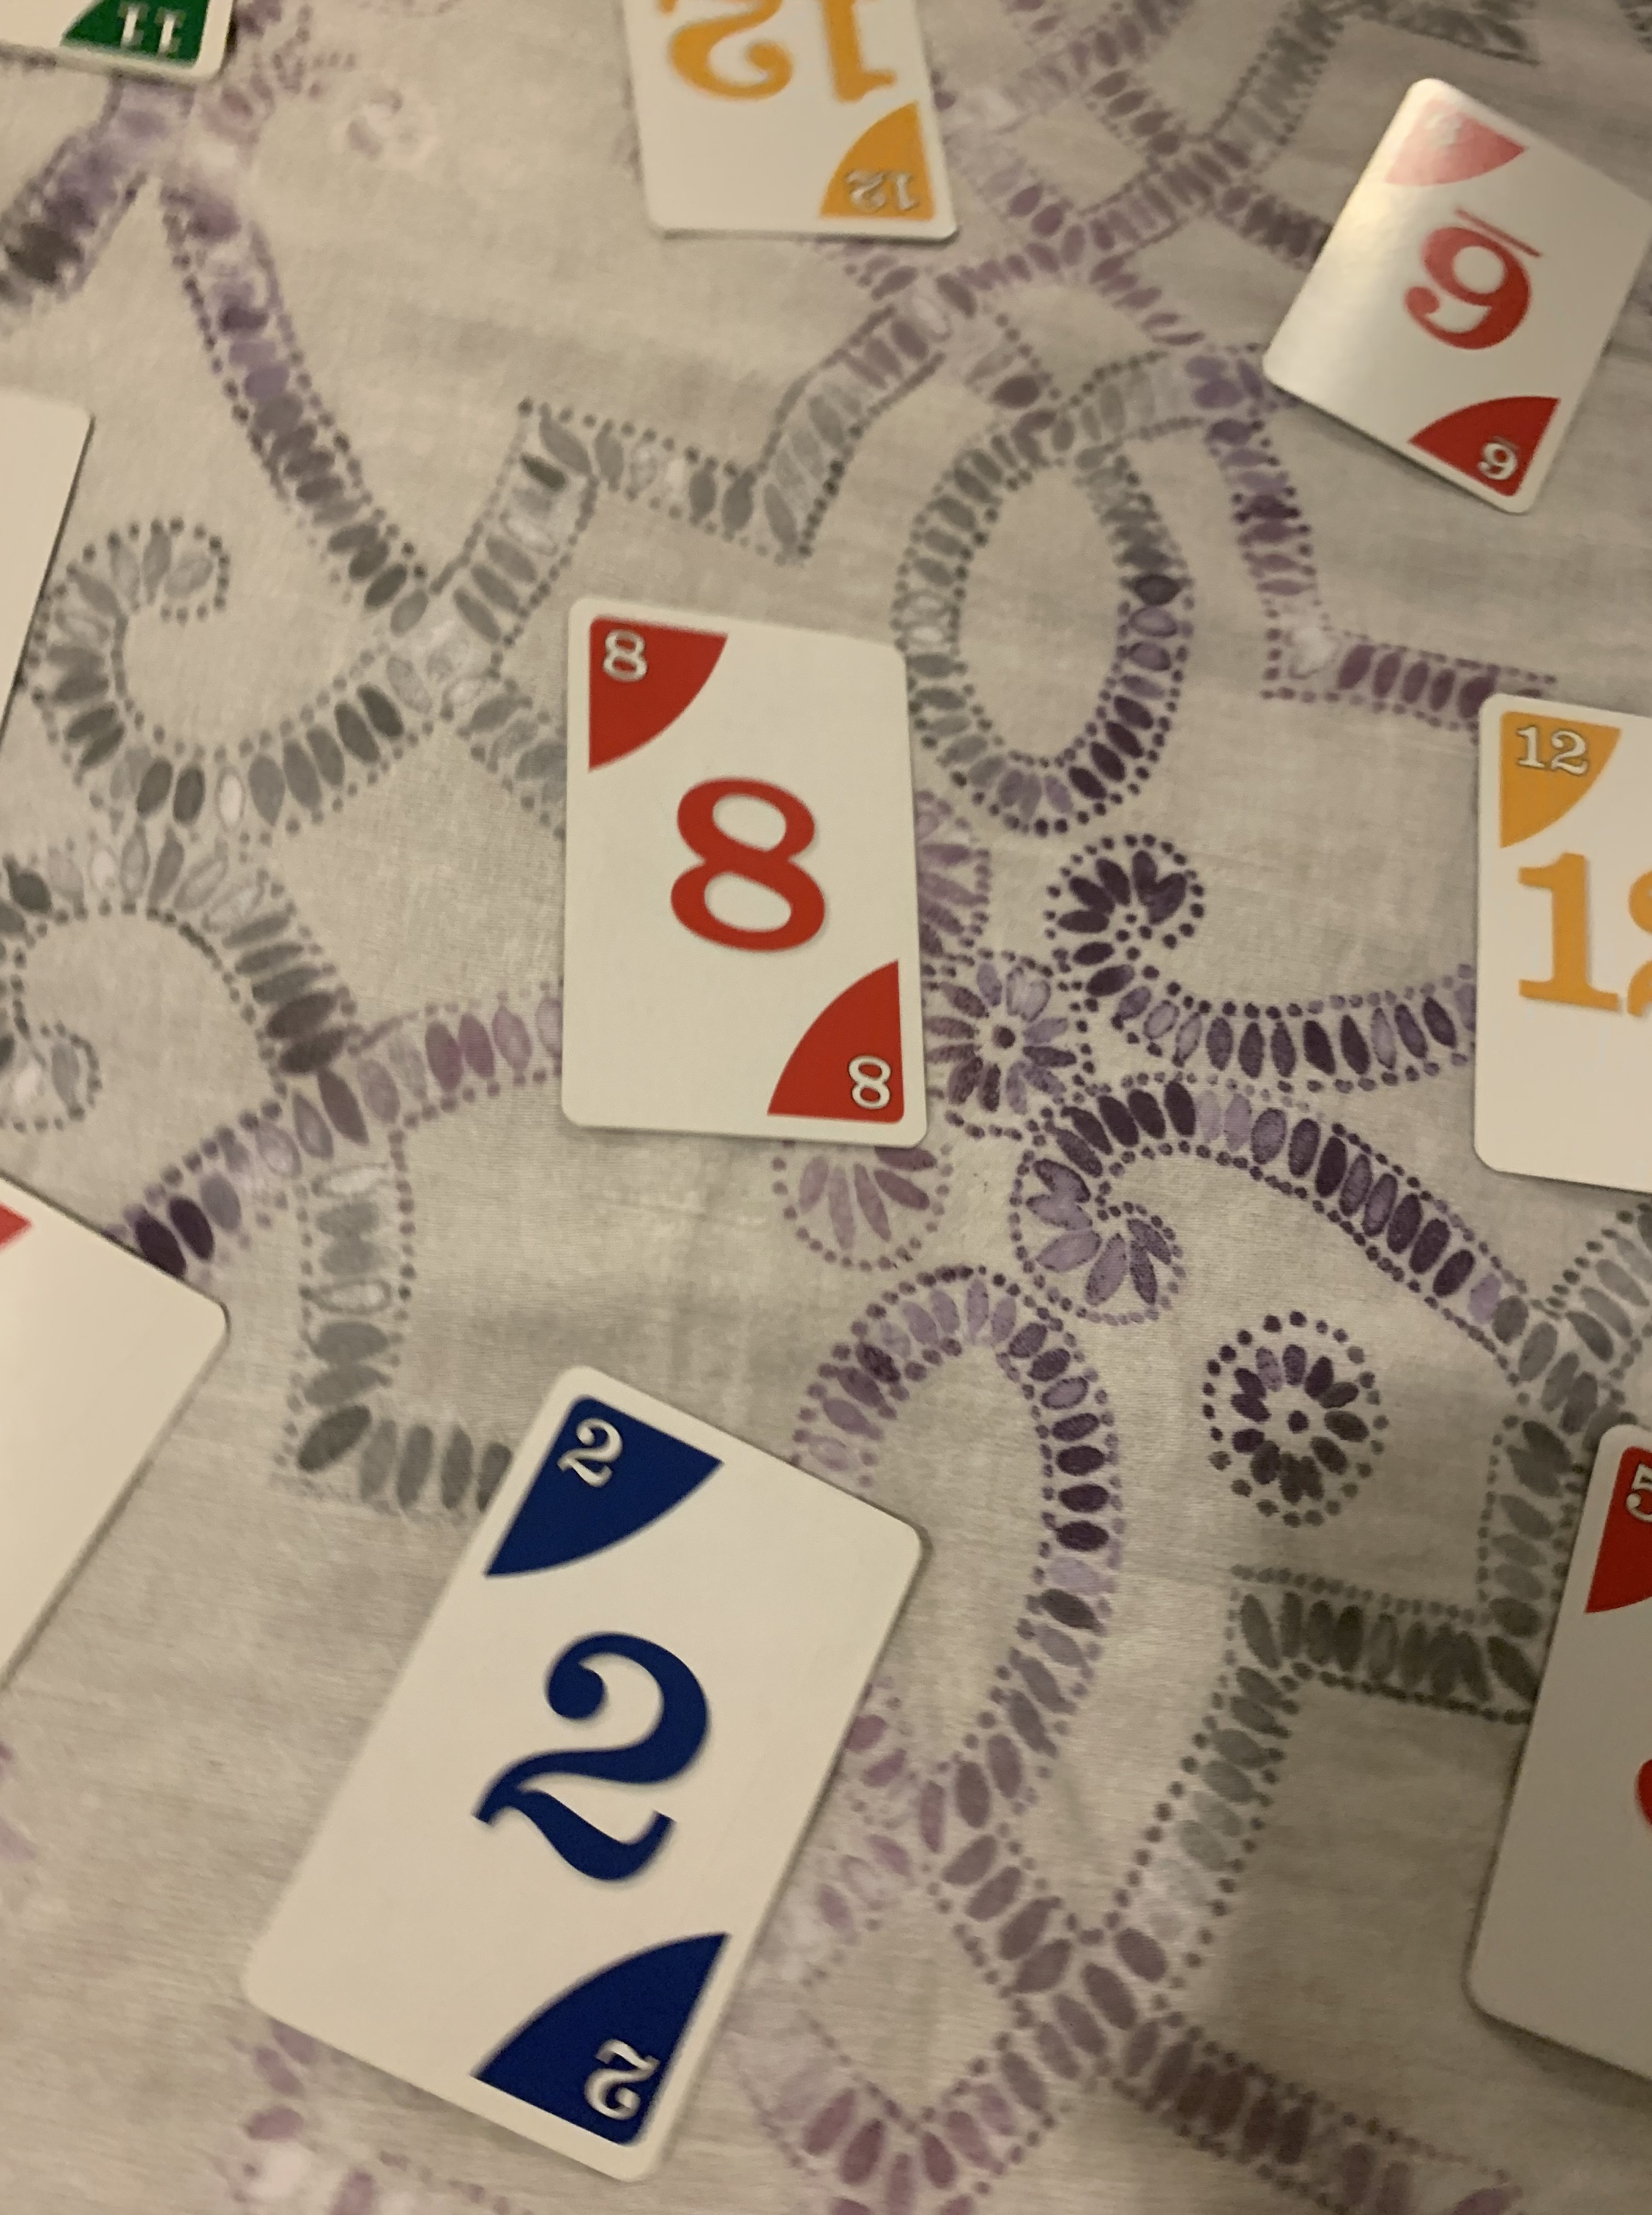eight: (555, 592, 935, 1154)
six: (1253, 71, 1650, 523)
two: (250, 1361, 934, 2191)
